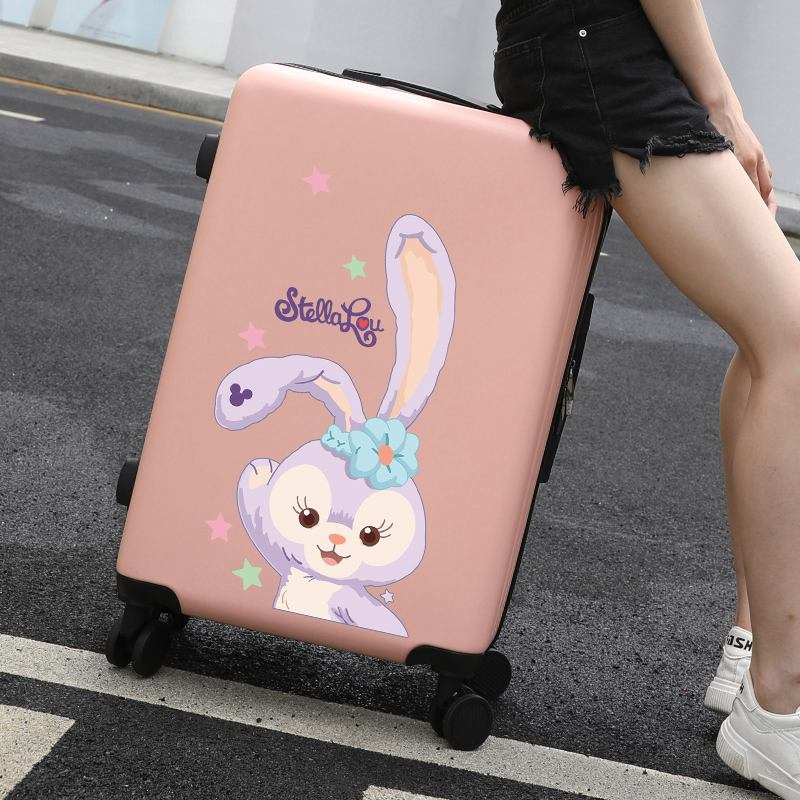box: (114, 63, 614, 666)
handle: (341, 67, 504, 111)
wheel: (429, 682, 494, 751), (104, 615, 175, 676), (462, 648, 513, 701)
